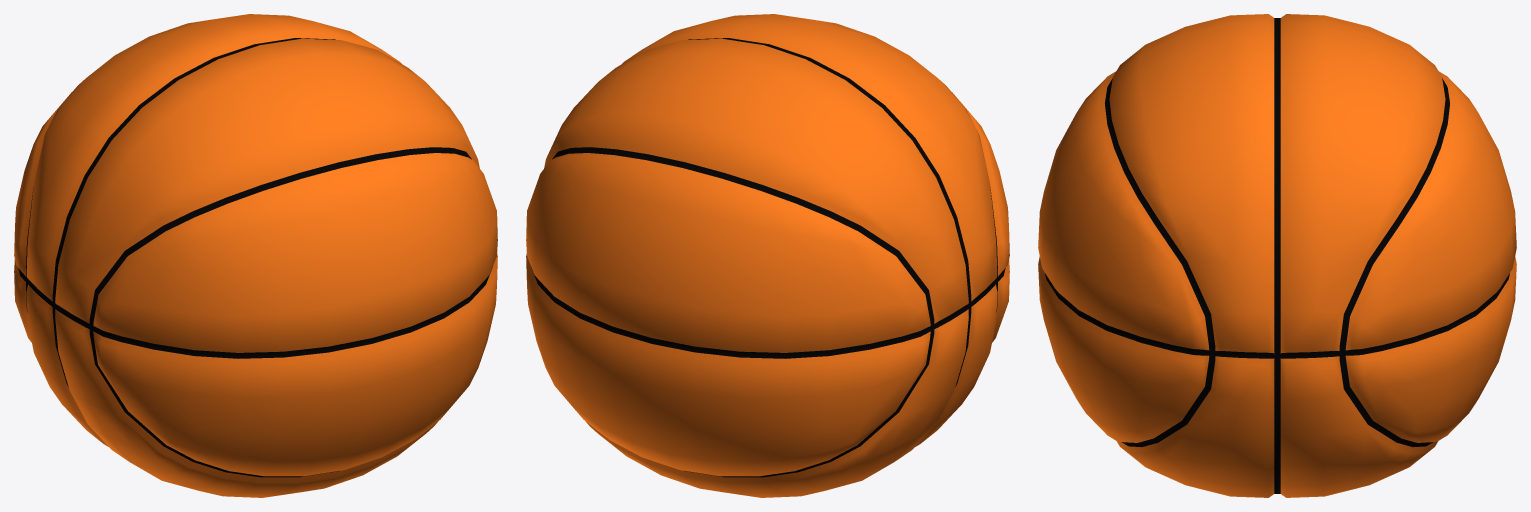
Rendered from basketball rec2.0.fbx.
The picture shows the model from 3 angles, left to right: view 1: azimuth 30°, elevation 25°; view 2: azimuth 150°, elevation 25°; view 3: azimuth 270°, elevation 25°; orthographic projection.
Parts seen in each view (by area): view 1: Cube; view 2: Cube; view 3: Cube.
Part boxes in pixels (<box>): Cube: <box>14,14,497,497</box>; Cube: <box>526,14,1009,497</box>; Cube: <box>1038,14,1516,497</box>.
Bounding box in the file's own units: 1.59 × 1.59 × 1.59.
